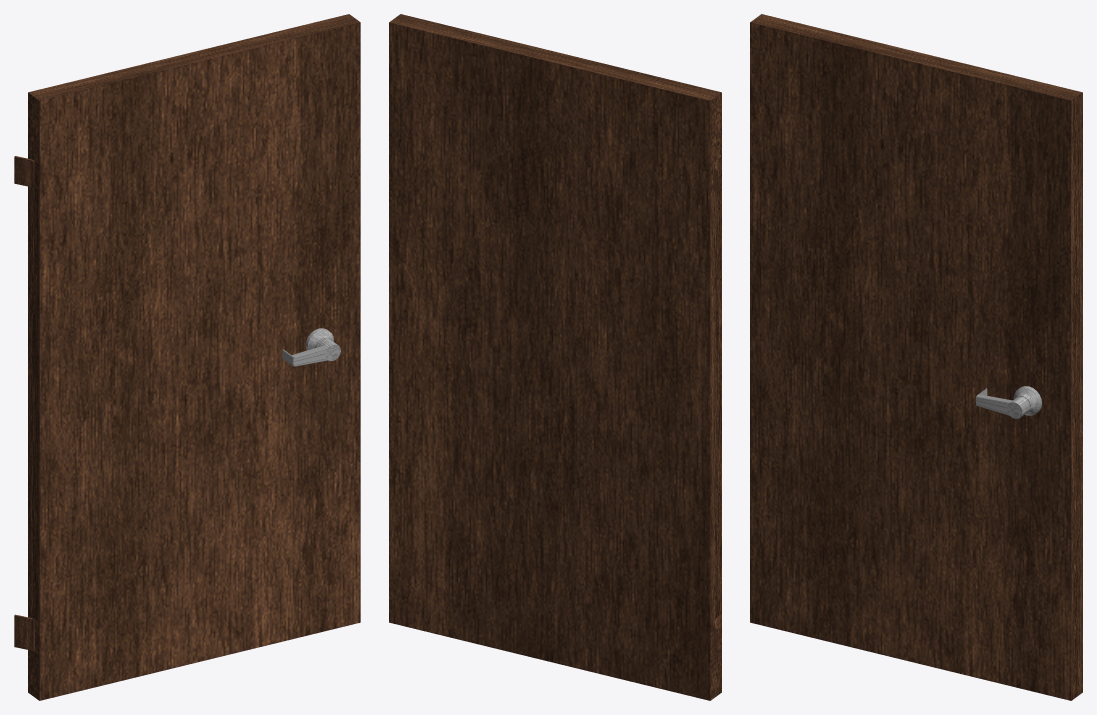
Rendered from Door_1_finished.fbx.
The picture shows the model from 3 angles, left to right: view 1: azimuth 30°, elevation 25°; view 2: azimuth 150°, elevation 25°; view 3: azimuth 330°, elevation 25°; orthographic projection.
Parts seen in each view (by area): view 1: pCube1, pCylinder1, pCube2; view 2: pCube1; view 3: pCube1, pCylinder1.
Boxes of the visible parts, x1,y1,x2,y2 form: pCube1: (28, 14, 360, 700); pCylinder1: (282, 328, 340, 366); pCube2: (14, 614, 31, 650); pCube1: (389, 14, 721, 700); pCube1: (750, 14, 1082, 700); pCylinder1: (976, 386, 1041, 418).
Size of the model in its own units: 2.56 by 4.43 by 0.3994.
Materials: 2 (2 with a texture image).
